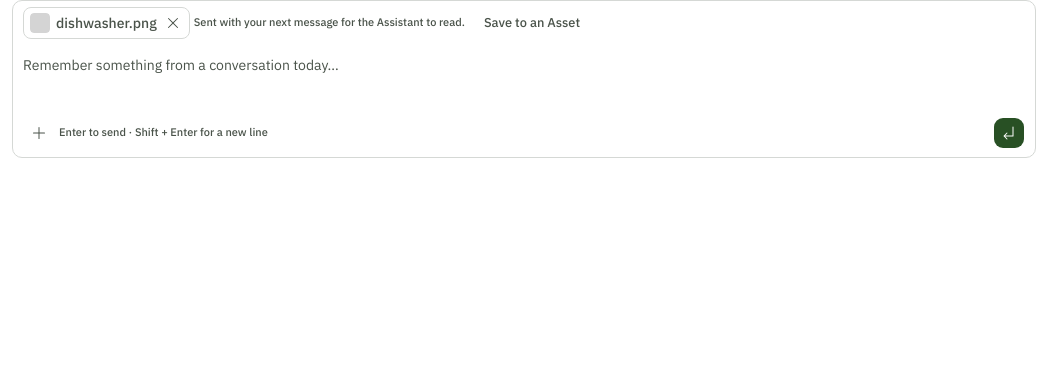
Test: holds a pasted image for chat and opens Asset capture only on request
Click the button "Save to an Asset" at (532, 23), box [473, 9, 591, 37]
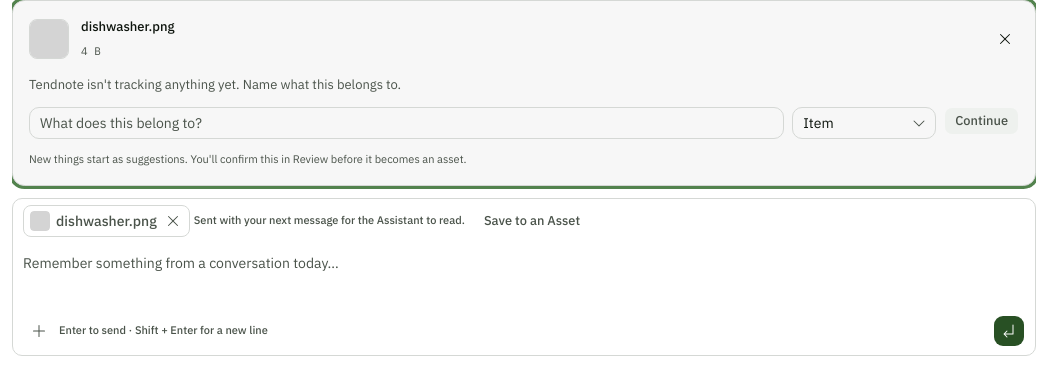
expect the element named "Attach asset evidence" is shown: met, box [12, 0, 1036, 186]
expect the 1st text "dishwasher.png" is shown: met, box [81, 18, 174, 35]
